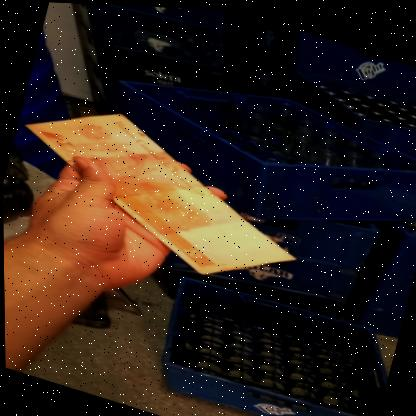twenty-back-vef: (1, 84, 318, 300)
